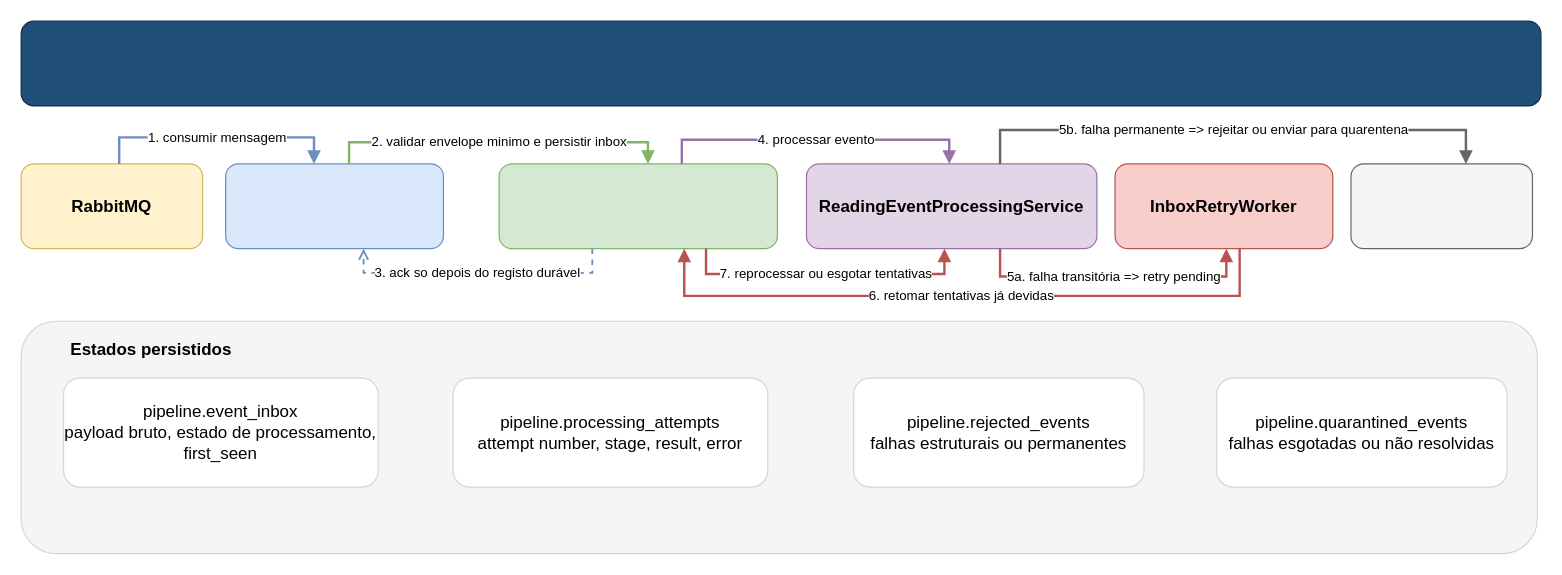
The diagram is 1562 pixels wide and 575 high, and some of its shapes have lost their labels. The shapes that lost their labels are listed below. From the top down, each one's centre as x and y in pixels, then its label:
At pixel 780 63: "Nova tentativa e quarentena no fluxo operacional".
At pixel 333 206: "PreventionWorker".
At pixel 637 206: "PostgresReadingEventInbox".
At pixel 1441 206: "rejected_events / quarantined_events".
